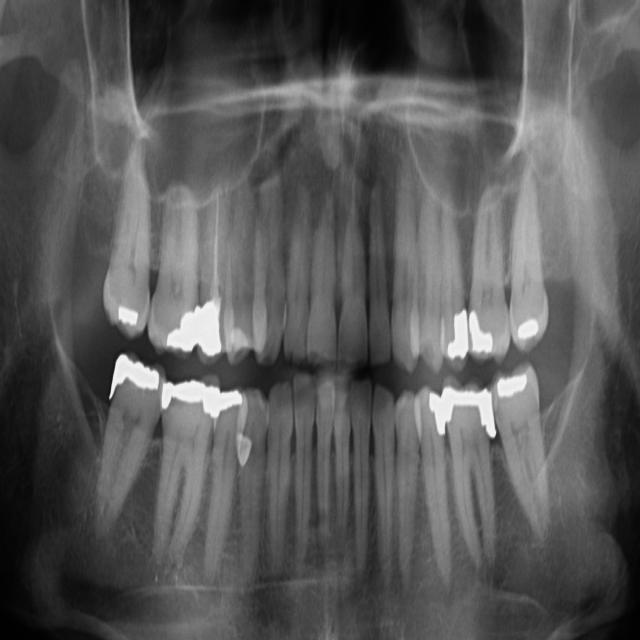dolgu: (441, 383, 498, 441), (160, 376, 220, 429), (110, 356, 162, 409), (438, 304, 469, 364), (488, 363, 527, 407), (465, 301, 494, 352), (164, 305, 194, 351), (506, 303, 538, 344), (230, 429, 255, 465), (428, 392, 447, 435), (218, 386, 238, 422), (119, 303, 141, 330)
kanal-tedavisi: (200, 189, 234, 310)
kaplama: (197, 301, 226, 354)
